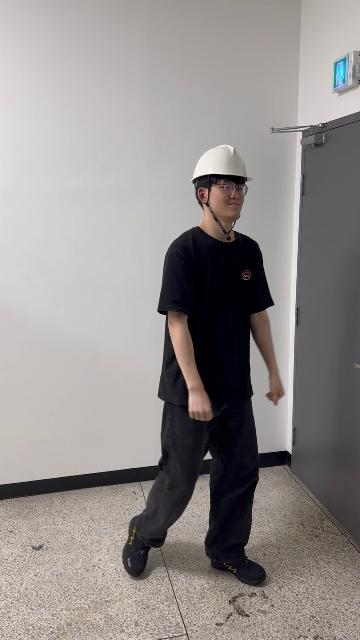helmet_worn: (190, 143, 255, 185)
shoe_worn: (122, 518, 156, 578), (209, 553, 265, 585)
vest_not_worn: (174, 236, 254, 404)
